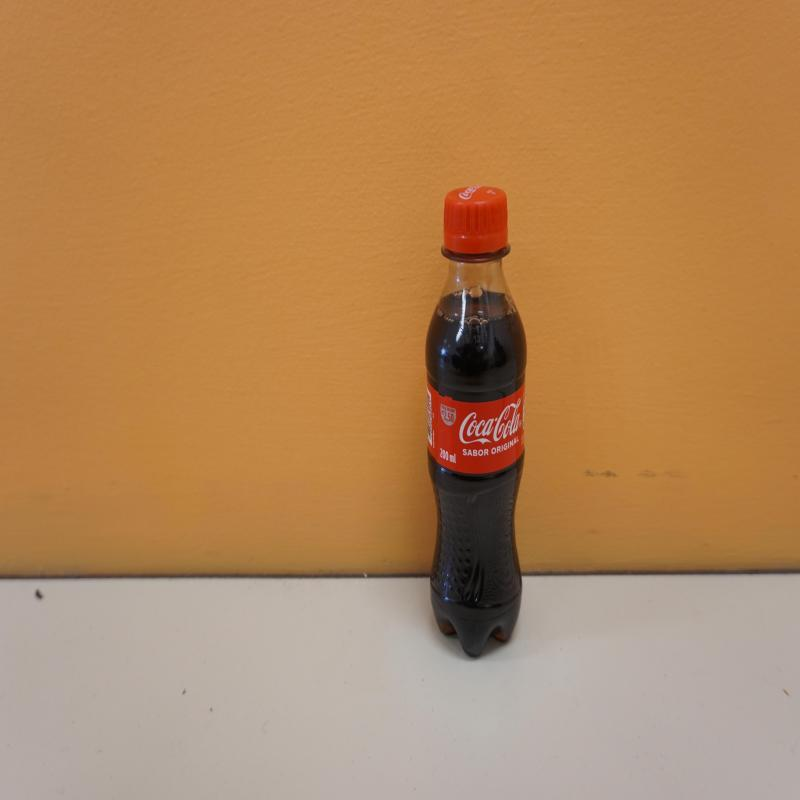Coke: (423, 187, 529, 662)
